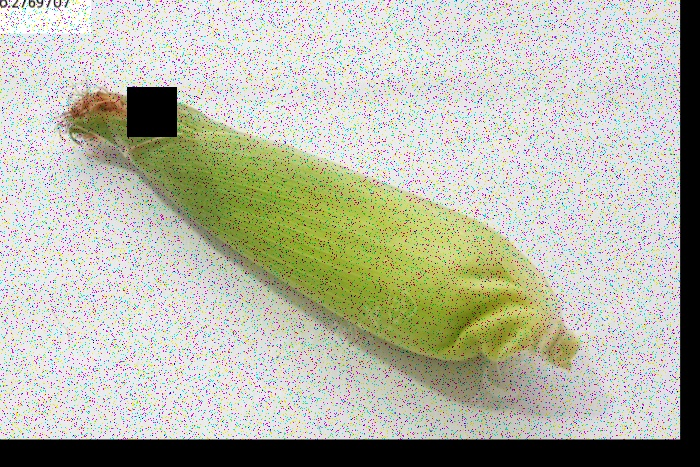corn_plant: (52, 69, 592, 380)
